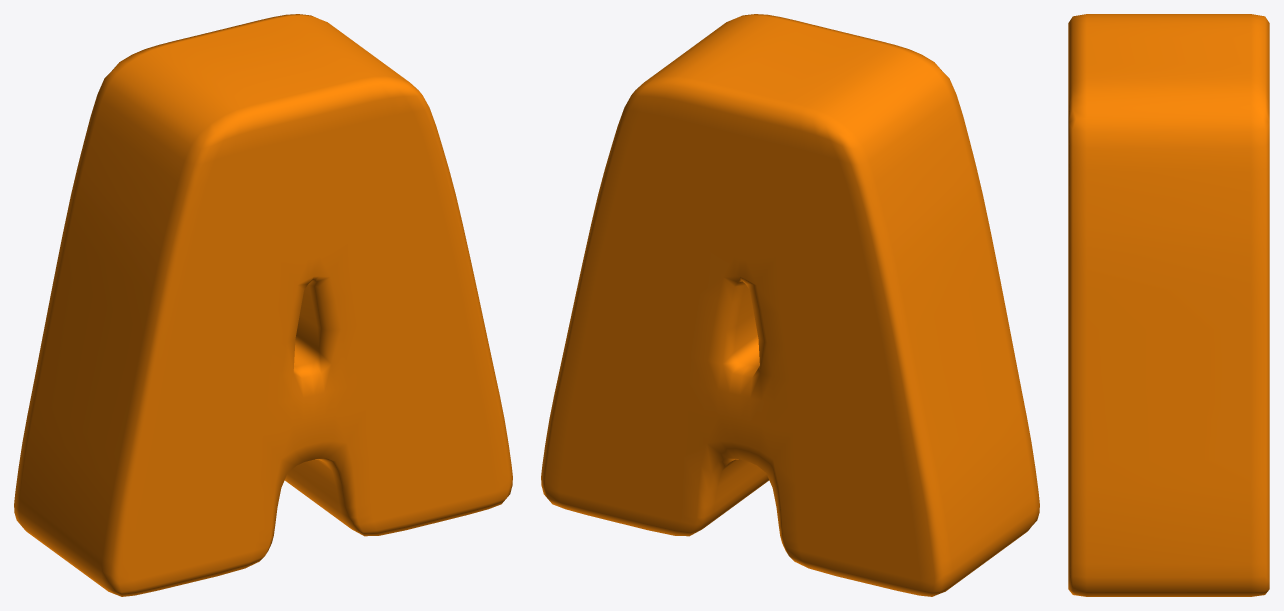
The picture shows the model from 3 angles, left to right: view 1: azimuth 30°, elevation 25°; view 2: azimuth 150°, elevation 25°; view 3: azimuth 270°, elevation 25°; orthographic projection.
Parts seen in each view (by area): view 1: LETTER_A; view 2: LETTER_A; view 3: LETTER_A.
Boxes of the visible parts, x1=… form: LETTER_A: x1=14, y1=14, x2=512, y2=596; LETTER_A: x1=541, y1=14, x2=1039, y2=596; LETTER_A: x1=1068, y1=14, x2=1269, y2=596.
Size of the model in its own units: 0.9283 by 1 by 0.3995.
